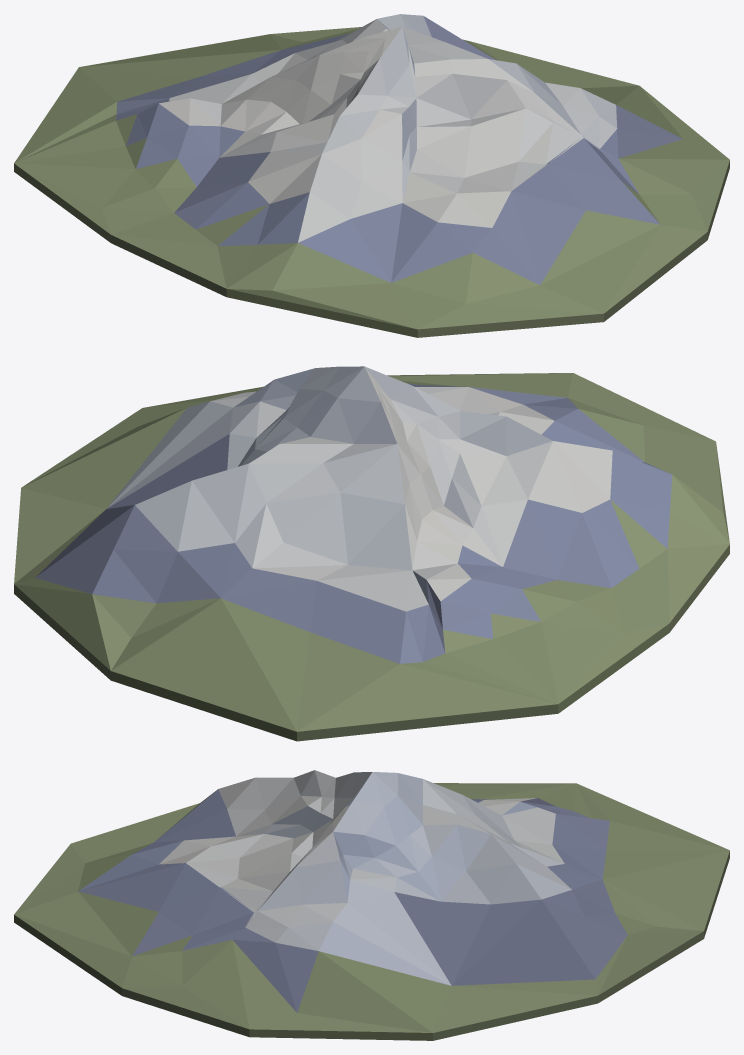
File: massif_east_spur.glb
The picture shows the model from 3 angles, top to bottom: view 1: azimuth 30°, elevation 25°; view 2: azimuth 150°, elevation 25°; view 3: azimuth 270°, elevation 25°; orthographic projection. The views are drawn at different scales.
Parts seen in each view (by area): view 1: massif_east_spur; view 2: massif_east_spur; view 3: massif_east_spur.
Boxes of the visible parts, <box> form: massif_east_spur: <box>14,14,729,337</box>; massif_east_spur: <box>14,366,729,741</box>; massif_east_spur: <box>14,770,729,1040</box>.
Size of the model in its own units: 675 by 184 by 817.
